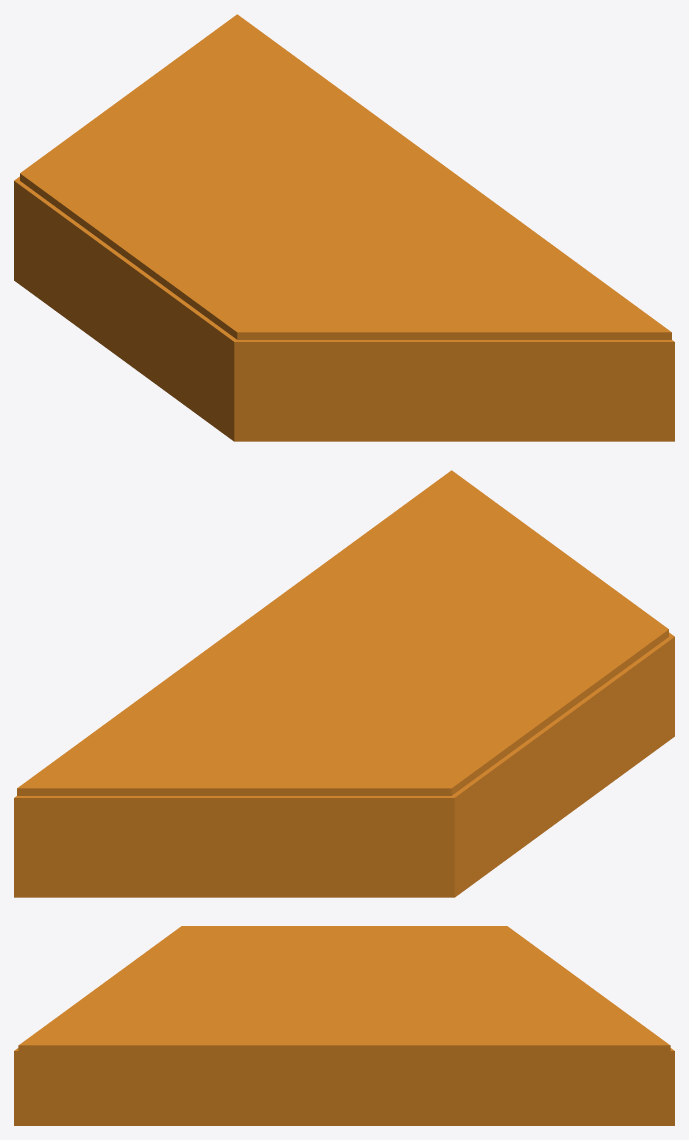
Rendered from toiletTile_gray_half.fbx.
The picture shows the model from 3 angles, top to bottom: view 1: azimuth 30°, elevation 25°; view 2: azimuth 150°, elevation 25°; view 3: azimuth 270°, elevation 25°; orthographic projection. The views are drawn at different scales.
Visible parts, largest first — view 1: toilet_tile_gray_half; view 2: toilet_tile_gray_half; view 3: toilet_tile_gray_half.
Part boxes in pixels (x1,y1,x2,y2): toilet_tile_gray_half: [14, 14, 674, 441]; toilet_tile_gray_half: [14, 470, 674, 897]; toilet_tile_gray_half: [14, 926, 674, 1125].
Size of the model in its own units: 100 by 31 by 231.
